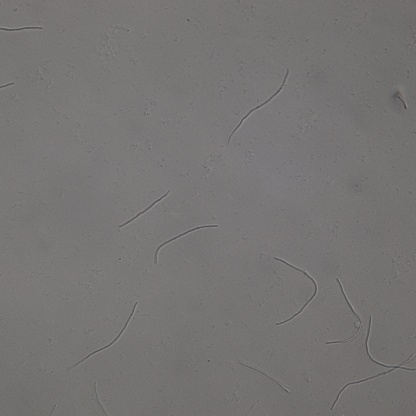Sensitive: (331, 316, 416, 410), (227, 69, 289, 144), (70, 302, 139, 369), (272, 256, 318, 328), (326, 278, 362, 347), (154, 223, 219, 261), (118, 189, 171, 227), (241, 363, 289, 392), (1, 21, 43, 32)
